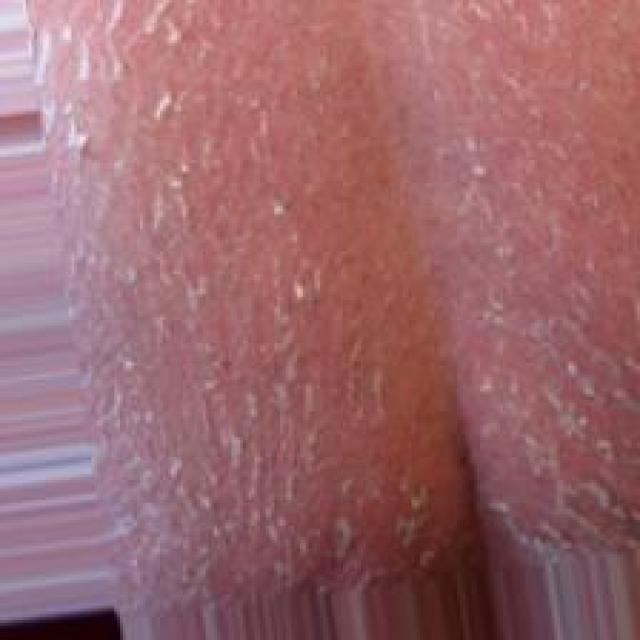Eczema: (68, 17, 624, 553)
